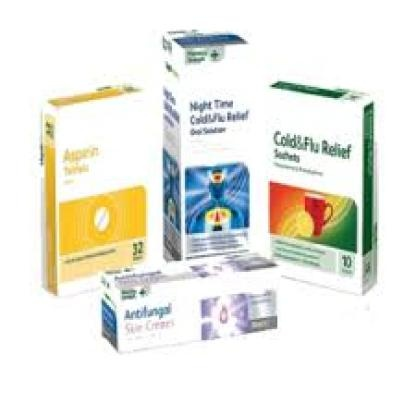trash: (162, 31, 264, 260), (268, 81, 376, 292), (41, 85, 146, 293), (101, 255, 277, 351)
